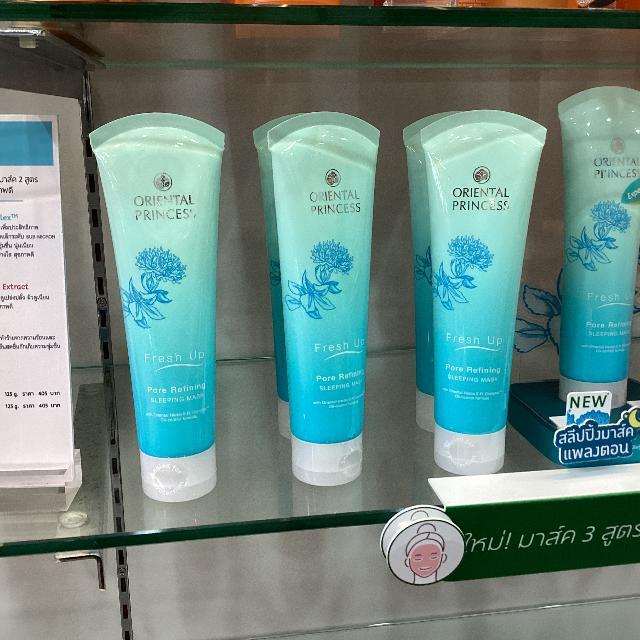Squeeze Tube: (58, 57, 640, 516), (71, 109, 243, 509), (410, 110, 559, 486), (266, 106, 387, 502)
